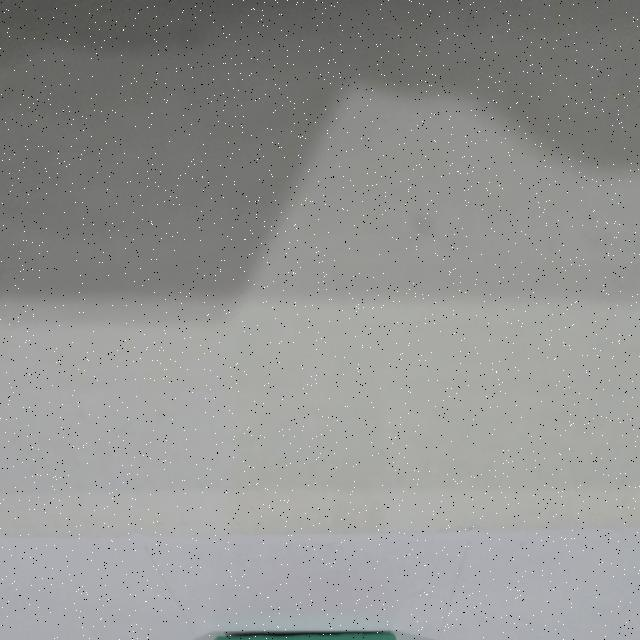tramadol: (204, 628, 402, 640)
